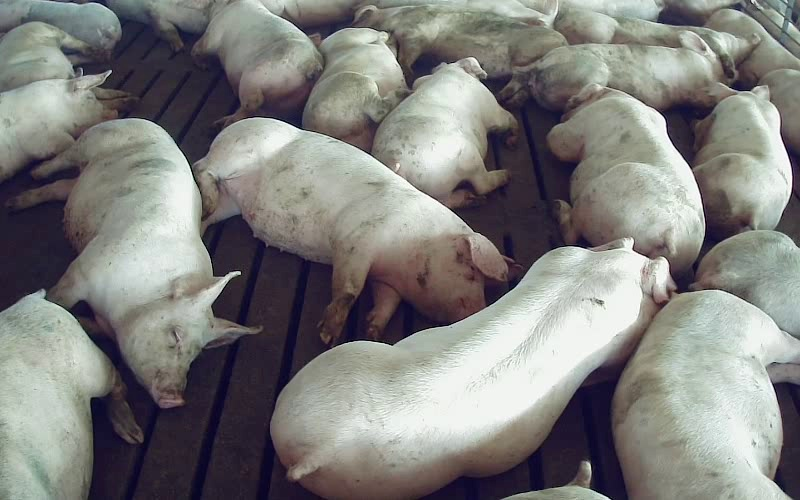pig: (272, 239, 674, 497), (193, 118, 513, 343), (9, 120, 258, 406), (613, 290, 799, 499), (547, 84, 704, 276), (499, 32, 726, 110), (192, 0, 322, 126), (353, 5, 566, 77), (554, 7, 759, 81), (302, 28, 409, 151), (0, 71, 117, 182), (690, 231, 799, 338), (704, 9, 799, 88), (0, 22, 90, 91)
